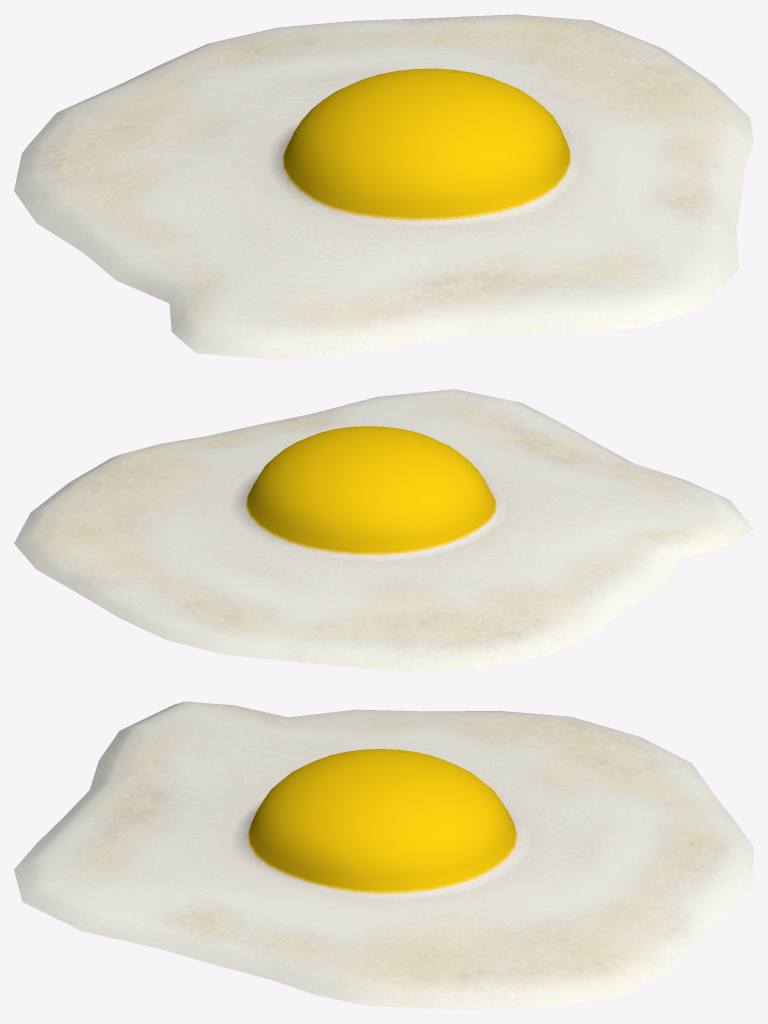
The model's file is Egg_Cracked_28.obj.
3 views of the same model, one above another, from view 1: azimuth 30°, elevation 25°; view 2: azimuth 150°, elevation 25°; view 3: azimuth 270°, elevation 25° (orthographic). The views are drawn at different scales.
Visible parts, largest first — view 1: fried_egg_27; view 2: fried_egg_27; view 3: fried_egg_27.
Part boxes in pixels (x1,y1,x2,y2): fried_egg_27: [14, 14, 753, 360]; fried_egg_27: [14, 389, 753, 672]; fried_egg_27: [14, 701, 753, 1009].
Bounding box in the file's own units: 0.1086 × 0.0155 × 0.1116.
